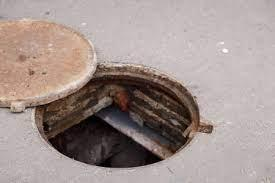open manhole-not overflowing-: (25, 62, 202, 172)
